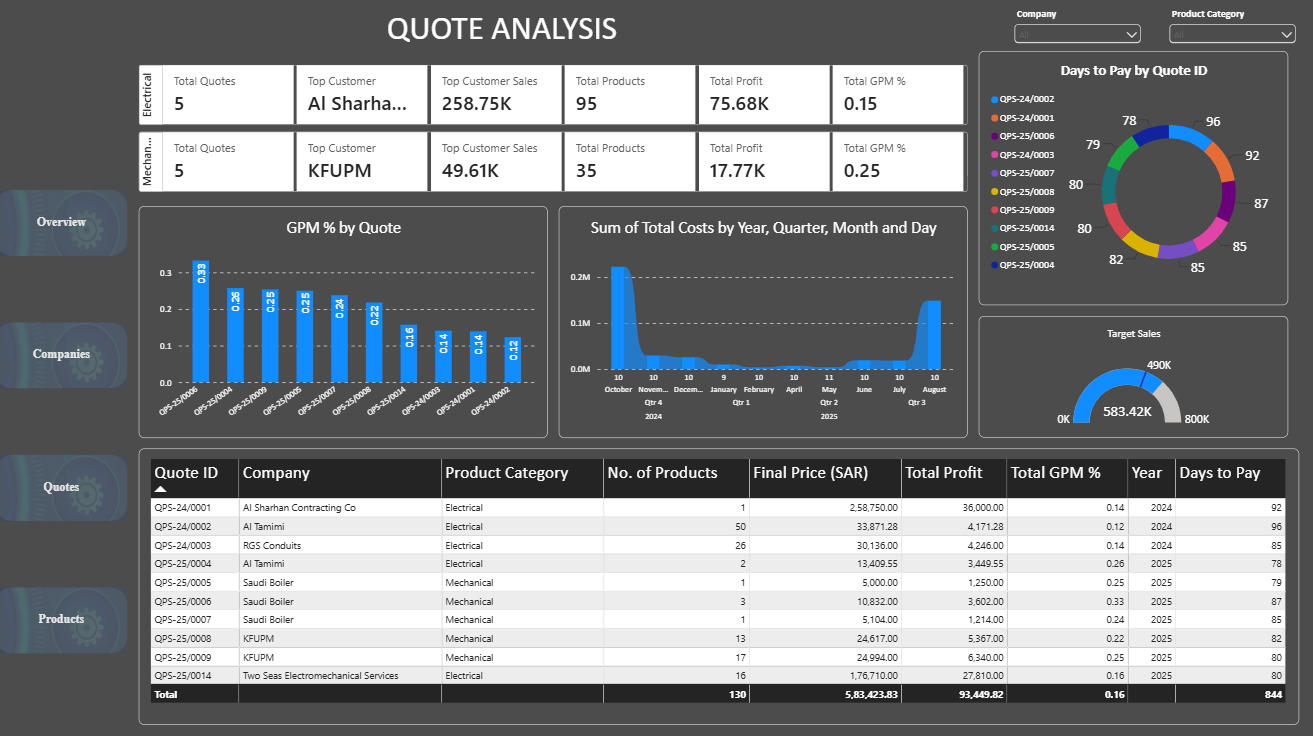

This screenshot's page, from the dashboard's own definition file:
{"tool":"powerbi","page":{"name":"Quotes","canvas":[1920,1080],"ordinal":2},"visuals":[{"type":"actionButton","box":[0,280.4,192,96],"z":0},{"type":"actionButton","box":[0,664.4,192,96],"z":1000},{"type":"actionButton","box":[0,472.4,192,96],"z":2000},{"type":"actionButton","box":[0,856.4,192,96],"z":3000},{"type":"cardVisual","title":"Quotes","fields":{"Data":["SalesData.Total Quotes","SalesData.Top Customer","SalesData.Top Customer Sales","SalesData.Total Products","SalesData.Total Profit","SalesData.Total GPM %"],"Rows":["SalesData.Product Category"]},"box":[208,80,1200,224],"z":4000},{"type":"textbox","box":[304,16,864,64],"z":5000},{"type":"slicer","fields":{"Values":["SalesData.Company"]},"box":[1472,16,192,64],"z":6000},{"type":"slicer","fields":{"Values":["SalesData.Product Category"]},"box":[1696,16,192,64],"z":7000},{"type":"donutChart","title":"Days to Pay by Quote ID","fields":{"Category":["SalesData.Quote ID"],"Y":["Sum(SalesData.Days to Pay)"]},"box":[1424,80,448,368],"z":8000},{"type":"tableEx","fields":{"Values":["SalesData.Quote ID","SalesData.Company","SalesData.Product Category","Sum(SalesData.No. of Products)","Sum(SalesData.Final Price (SAR))","SalesData.Total Profit","SalesData.Total GPM %","SalesData.Quote Date.Variation.Date Hierarchy.Year","Sum(SalesData.Days to Pay)"]},"box":[208,656,1680,400],"z":9000},{"type":"clusteredColumnChart","title":"GPM % by Quote","fields":{"Category":["SalesData.Quote ID"],"Y":["SalesData.Total GPM %"]},"box":[208,304,592,336],"z":9001},{"type":"ribbonChart","fields":{"Category":["SalesData.Quote Date.Variation.Date Hierarchy.Year","SalesData.Quote Date.Variation.Date Hierarchy.Quarter","SalesData.Quote Date.Variation.Date Hierarchy.Month","SalesData.Quote Date.Variation.Date Hierarchy.Day"],"Y":["SalesData.Sum of Total Costs"]},"box":[816,304,592,336],"z":9002},{"type":"gauge","title":"Target Sales","fields":{"TargetValue":["SalesData.Sum of Total Costs"],"Y":["SalesData.Sum of Total Sales"]},"box":[1424,464,448,176],"z":9003}]}

Visuals, with their boxes in screenshot pixels (x1, y1, x2, y2), scaled from the page's 1920x1080 canvas onto the 1313x736 screenshot:
actionButton: (x1=0, y1=191, x2=131, y2=257)
actionButton: (x1=0, y1=453, x2=131, y2=518)
actionButton: (x1=0, y1=322, x2=131, y2=387)
actionButton: (x1=0, y1=584, x2=131, y2=649)
"Quotes" cardVisual: (x1=142, y1=55, x2=963, y2=207)
textbox: (x1=208, y1=11, x2=799, y2=55)
slicer - SalesData.Company: (x1=1007, y1=11, x2=1138, y2=55)
slicer - SalesData.Product Category: (x1=1160, y1=11, x2=1291, y2=55)
"Days to Pay by Quote ID" donutChart: (x1=974, y1=55, x2=1280, y2=305)
tableEx - SalesData.Quote ID x SalesData.Company: (x1=142, y1=447, x2=1291, y2=720)
"GPM % by Quote" clusteredColumnChart: (x1=142, y1=207, x2=547, y2=436)
ribbonChart - SalesData.Quote Date.Variation.Date Hierarchy.Year x SalesData.Quote Date.Variation.Date Hierarchy.Quarter: (x1=558, y1=207, x2=963, y2=436)
"Target Sales" gauge: (x1=974, y1=316, x2=1280, y2=436)
